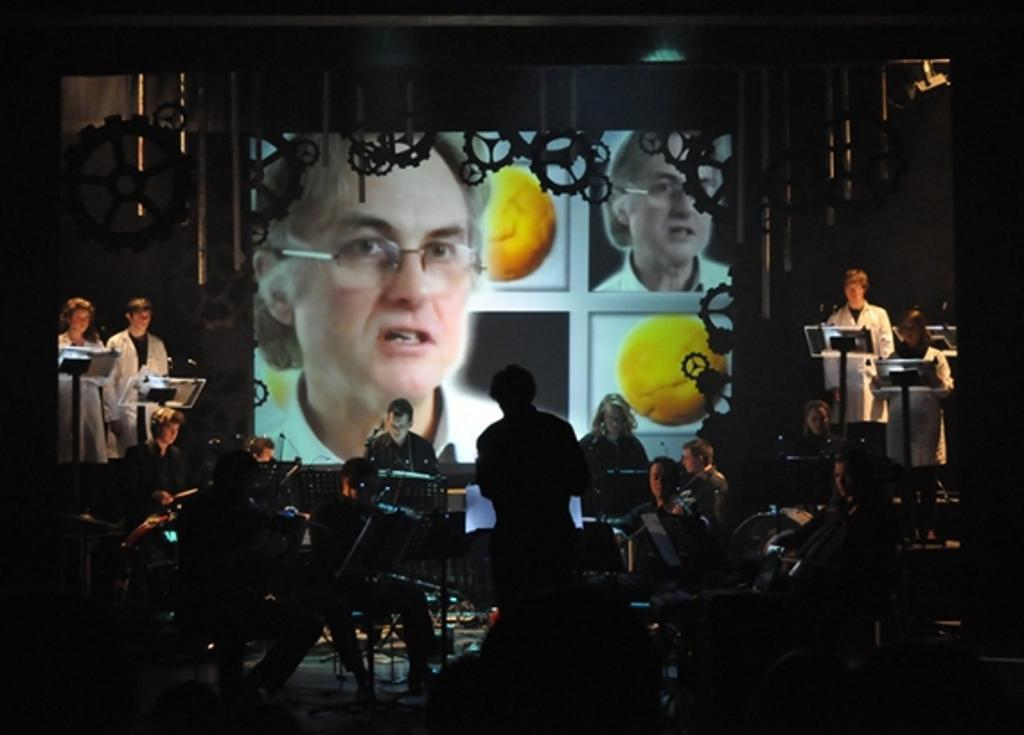face: (300, 145, 475, 393), (628, 133, 716, 258), (836, 465, 856, 497), (236, 475, 258, 504), (390, 413, 409, 444), (651, 467, 671, 496), (807, 410, 830, 435), (605, 411, 624, 434), (73, 311, 90, 333), (162, 422, 179, 444), (683, 452, 698, 474), (133, 312, 150, 330), (847, 284, 864, 301), (903, 325, 920, 342), (259, 448, 274, 464), (162, 493, 177, 507)
